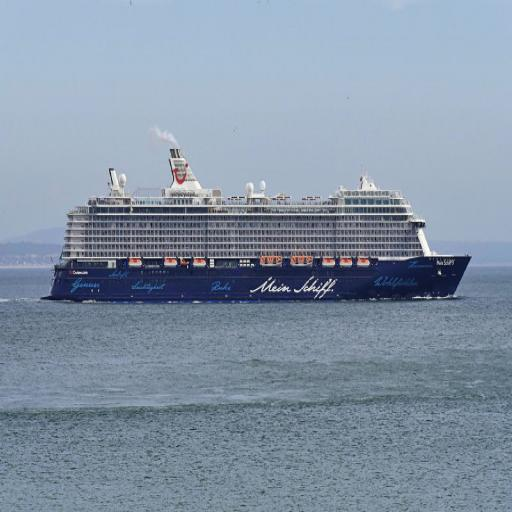cruises: (37, 143, 475, 308)
